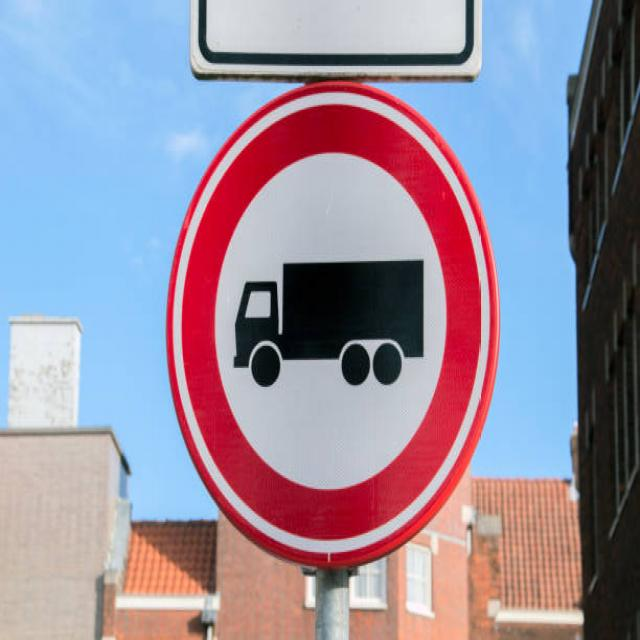do_not_enter: (151, 74, 508, 572)
